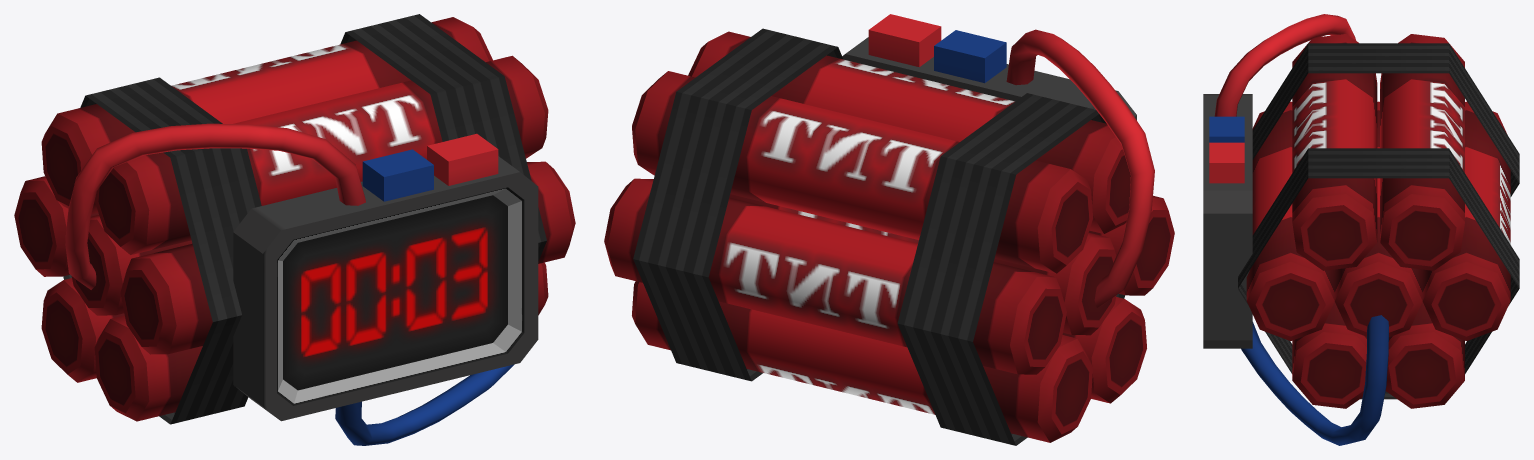
Rendered from TNT.fbx.
The picture shows the model from 3 angles, left to right: view 1: azimuth 30°, elevation 25°; view 2: azimuth 150°, elevation 25°; view 3: azimuth 270°, elevation 25°; orthographic projection. The views are drawn at different scales.
Parts seen in each view (by area): view 1: TNT; view 2: TNT; view 3: TNT.
Part boxes in pixels (bbox=[...]): TNT: bbox=[14, 14, 575, 445]; TNT: bbox=[604, 14, 1174, 445]; TNT: bbox=[1203, 14, 1519, 445].
Size of the model in its own units: 0.9871 by 0.696 by 0.6783.
